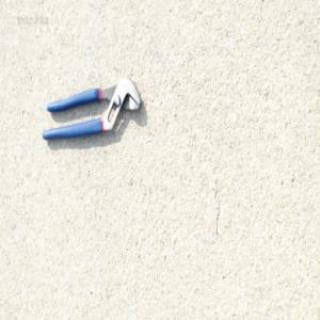Pliertrack_idkeyframe: (40, 74, 141, 142)
